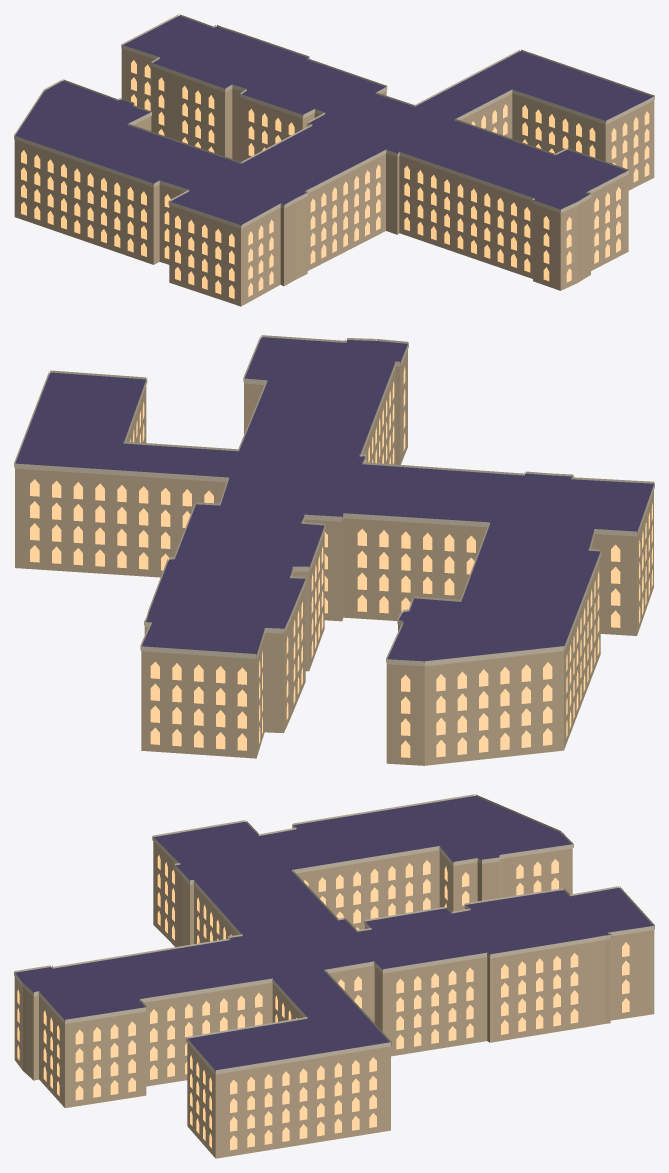
File: core-biological-geological-sciences.glb
3 views of the same model, one above another, from view 1: azimuth 30°, elevation 25°; view 2: azimuth 150°, elevation 25°; view 3: azimuth 270°, elevation 25° (orthographic). The views are drawn at different scales.
Visible parts, largest first — view 1: campus/core-biological-geological-sciences-0; view 2: campus/core-biological-geological-sciences-0; view 3: campus/core-biological-geological-sciences-0.
Boxes of the visible parts, x1,y1,x2,y2 form: campus/core-biological-geological-sciences-0: [14, 14, 654, 306]; campus/core-biological-geological-sciences-0: [14, 335, 654, 765]; campus/core-biological-geological-sciences-0: [14, 794, 654, 1158].
Bounding box in the file's own units: 105 × 15.75 × 103.
